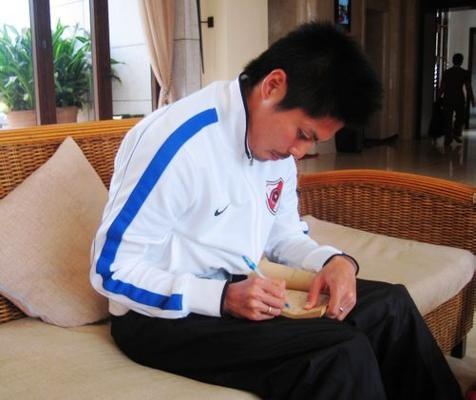person: (91, 20, 467, 400)
